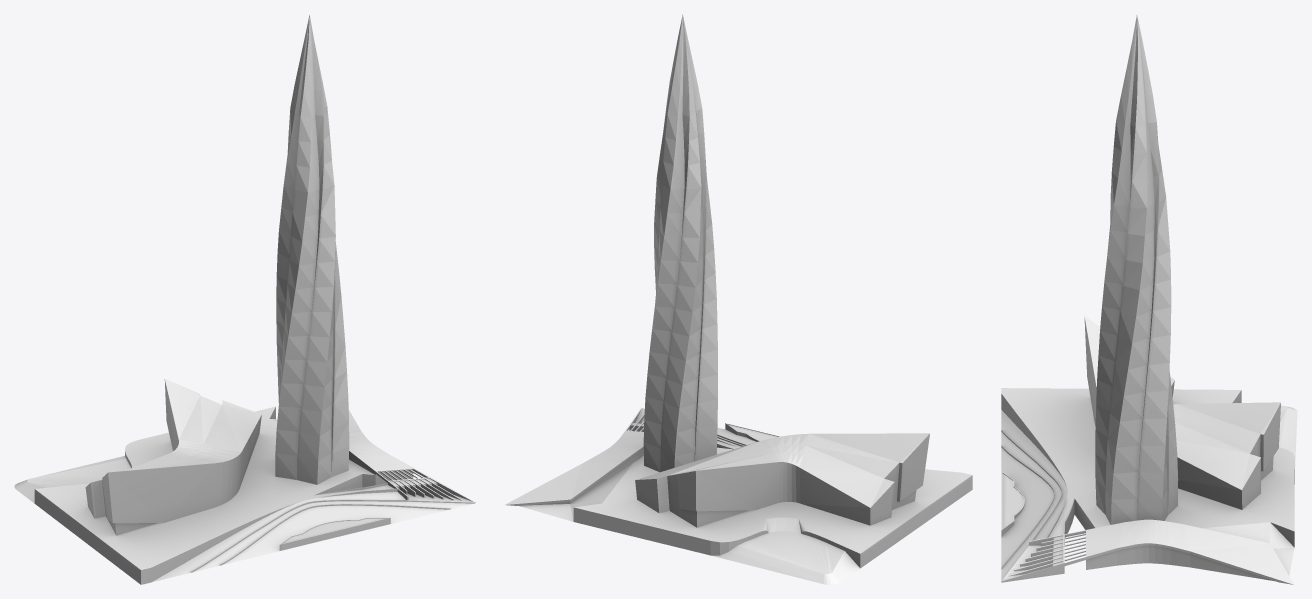
The model's file is lahtacentre.dae.
3 views of the same model, side by side, from view 1: azimuth 30°, elevation 25°; view 2: azimuth 150°, elevation 25°; view 3: azimuth 270°, elevation 25° (orthographic). The views are drawn at different scales.
Parts seen in each view (by area): view 1: lahtacentre; view 2: lahtacentre; view 3: lahtacentre.
Part boxes in pixels (<box>): lahtacentre: <box>14,15,475,584</box>; lahtacentre: <box>505,14,972,584</box>; lahtacentre: <box>1001,15,1297,584</box>.
Size of the model in its own units: 0.5323 by 0.3685 by 0.705.
1 material, 1 textured.
